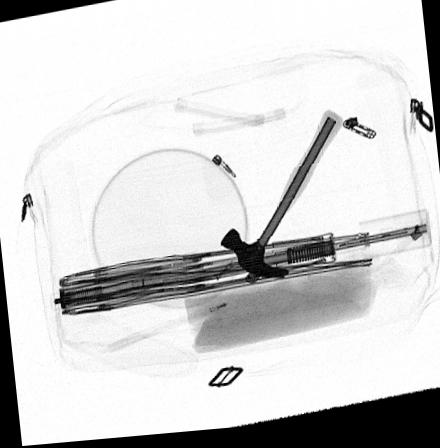Hammer: (220, 114, 343, 284)
